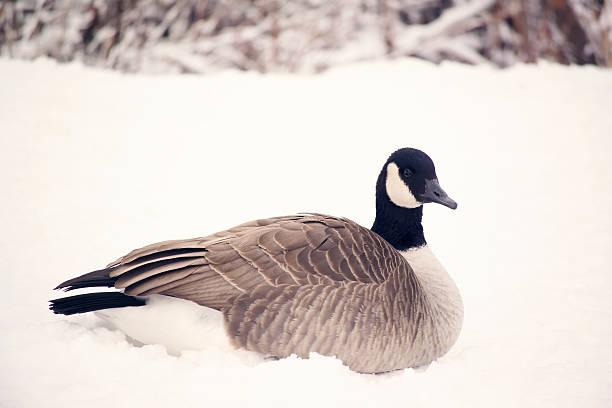Canadian-Goose: (45, 148, 466, 374)
